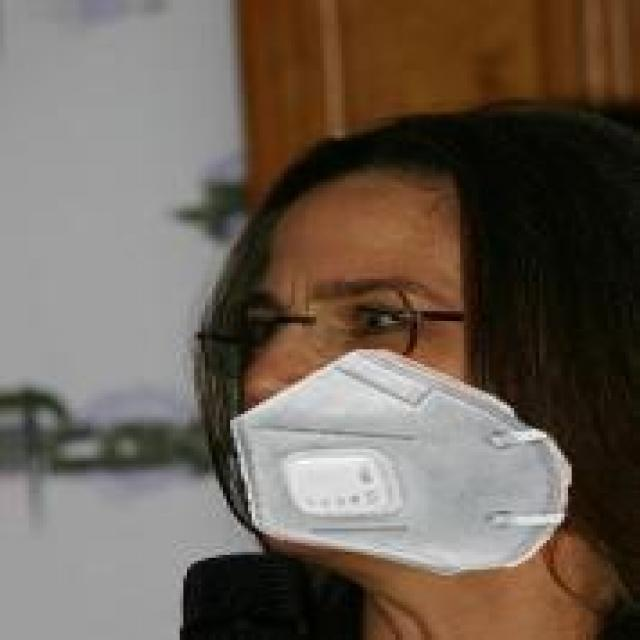mask: (198, 68, 640, 570)
